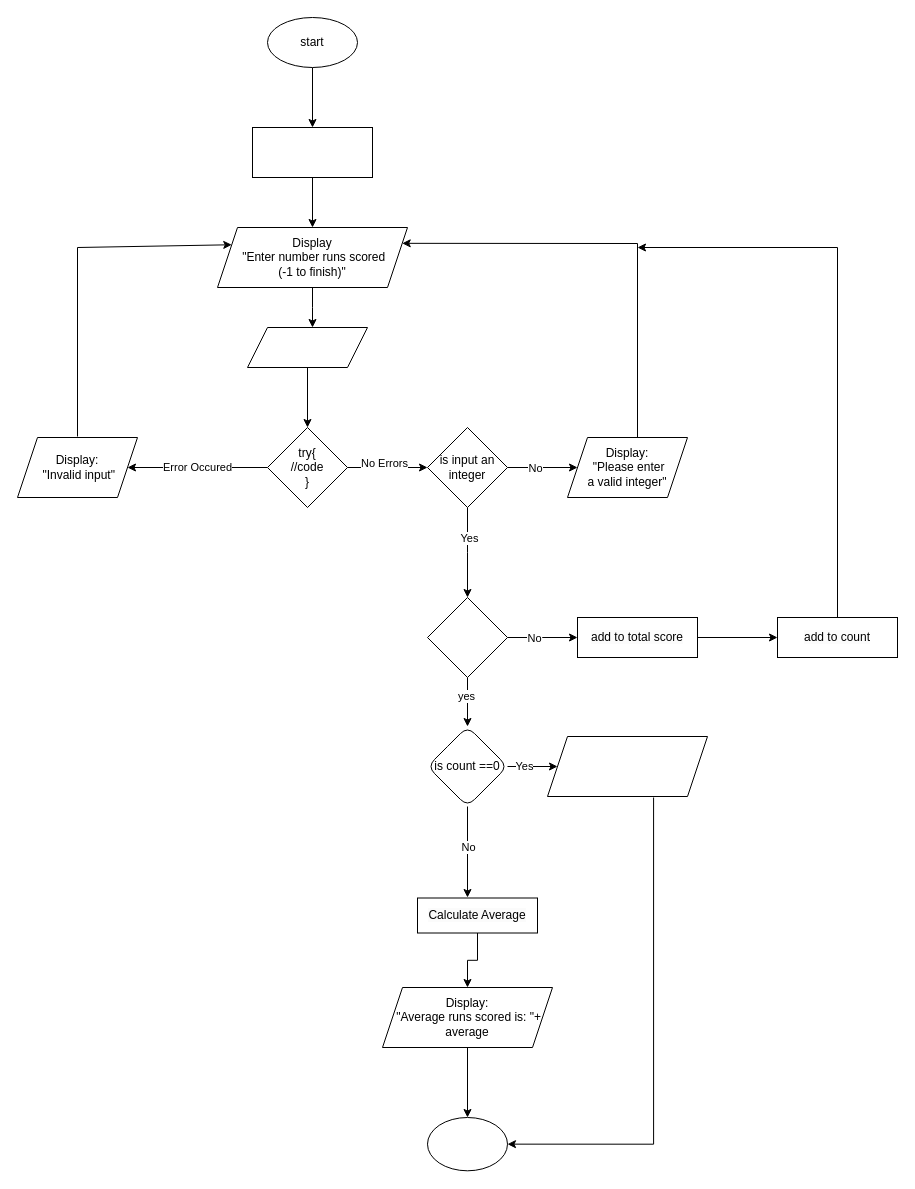
Image size: 915x1189. Some labels were removed from this diagram. The shapes that lost their labels are listed below. From the top down, each one's centre as x and y in pixels, then its label:
[312,152]: Initialise Variables: status, total_score, count
[307,347]: Accept input
[467,637]: is input == -1
[627,766]: Display: "No valid score entered"
[467,1143]: End
